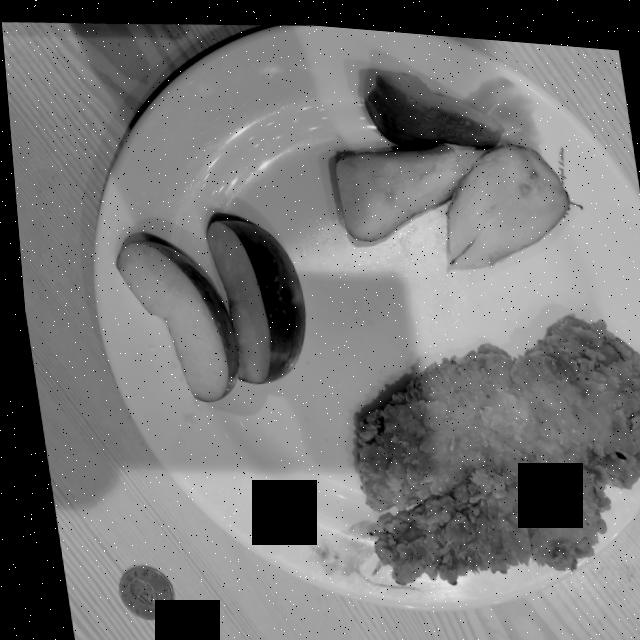apple -sliced-: (111, 216, 299, 399)
coin: (107, 564, 163, 618)
fried chicken cutlet: (350, 305, 640, 578)
